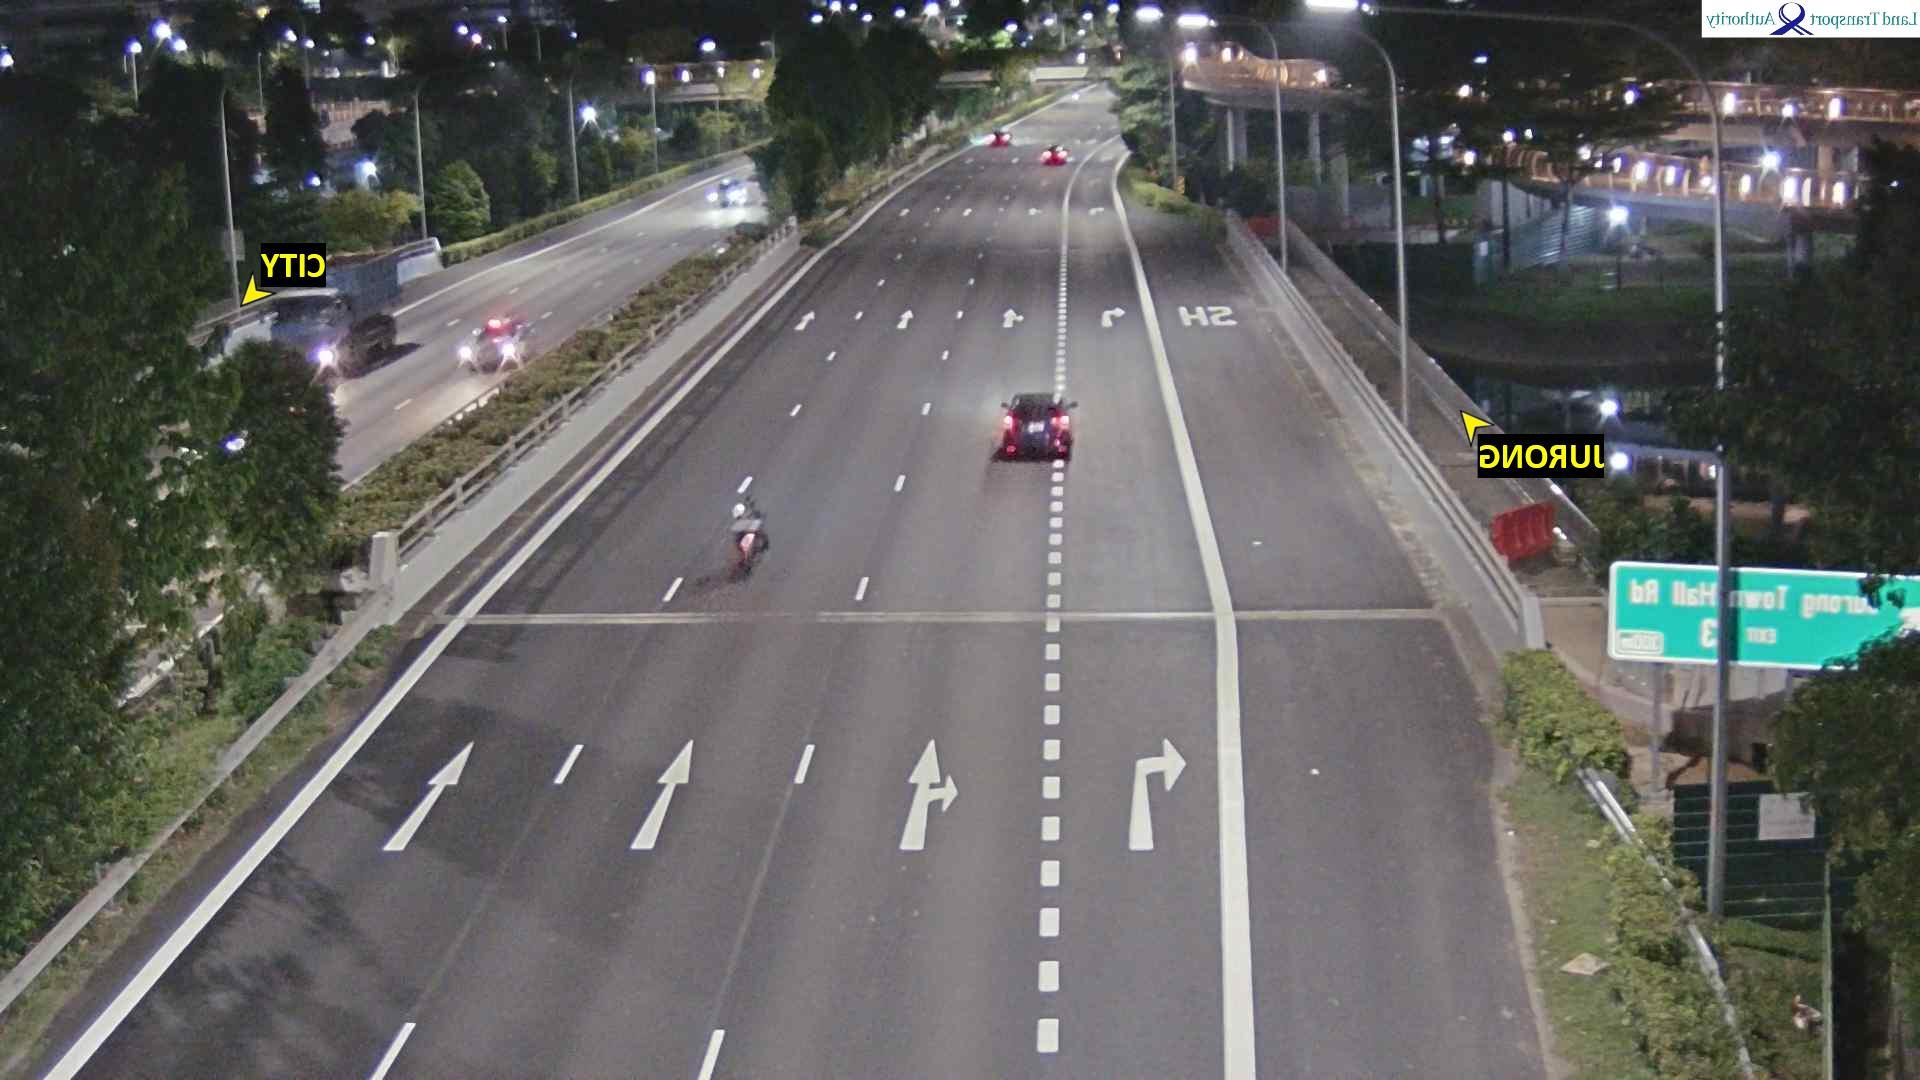incoming: (253, 292, 342, 392), (451, 317, 522, 378), (705, 175, 743, 210)
